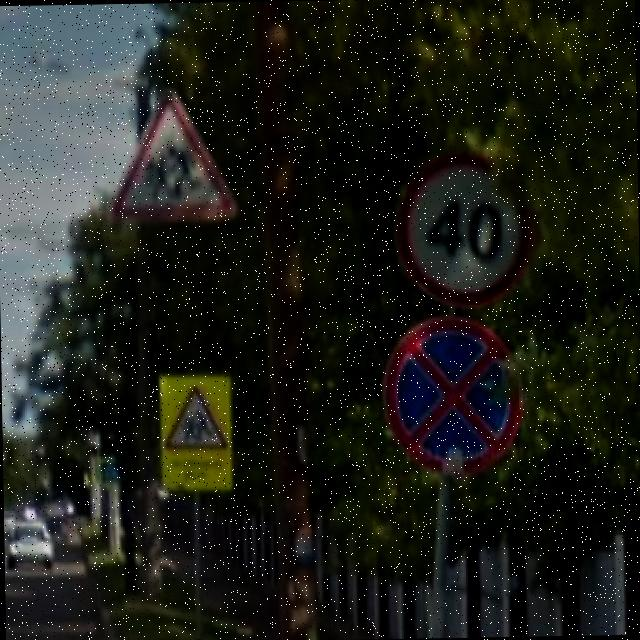Dzieci: (110, 88, 236, 224), (162, 382, 229, 451)
Ograniczenie predkosci do 40: (395, 151, 536, 308)
Zakaz zatrzymywania sie: (381, 312, 522, 478)
